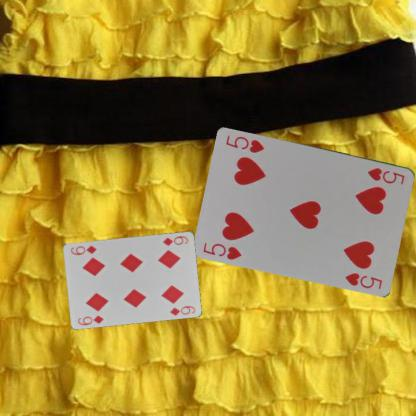5h: (200, 240, 244, 261), (365, 164, 406, 186)
6d: (160, 233, 190, 247), (76, 312, 105, 326)
